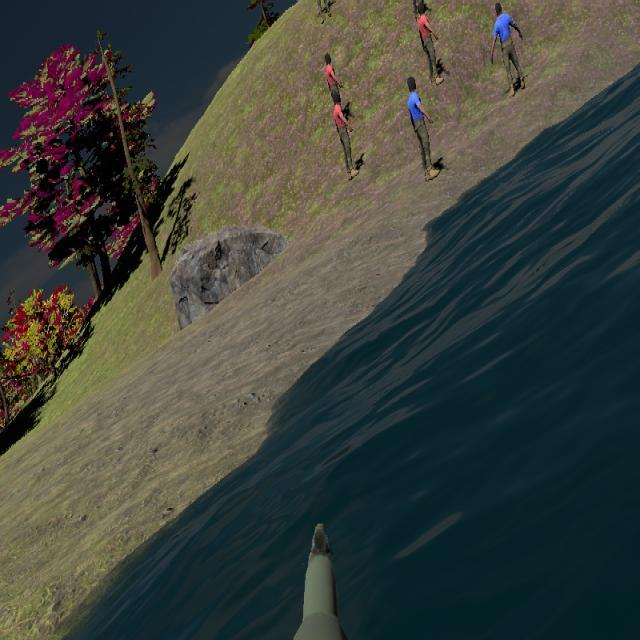Human: (407, 76, 441, 181), (491, 2, 526, 98), (333, 88, 359, 181), (417, 2, 445, 86), (324, 52, 345, 128)
